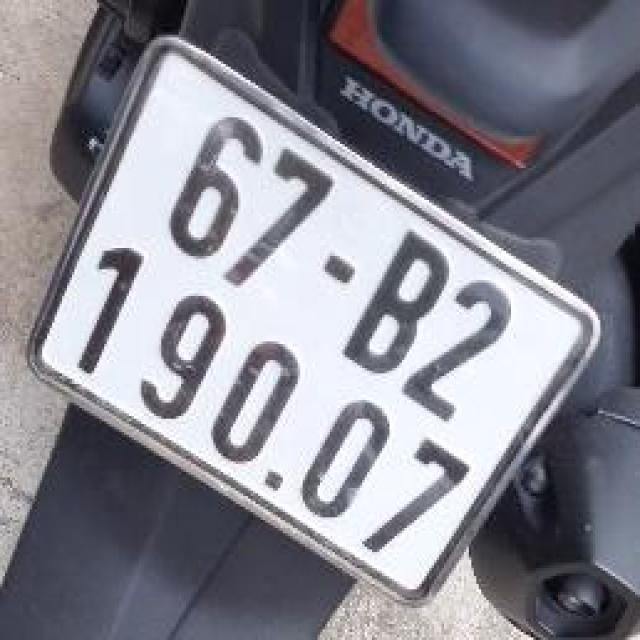0: (199, 320, 319, 482), (286, 382, 407, 537)
1: (52, 228, 161, 388)
2: (387, 258, 541, 439)
6: (157, 100, 281, 274)
7: (209, 137, 348, 304), (343, 425, 488, 571)
9: (124, 274, 253, 439)
B: (333, 220, 473, 391)
